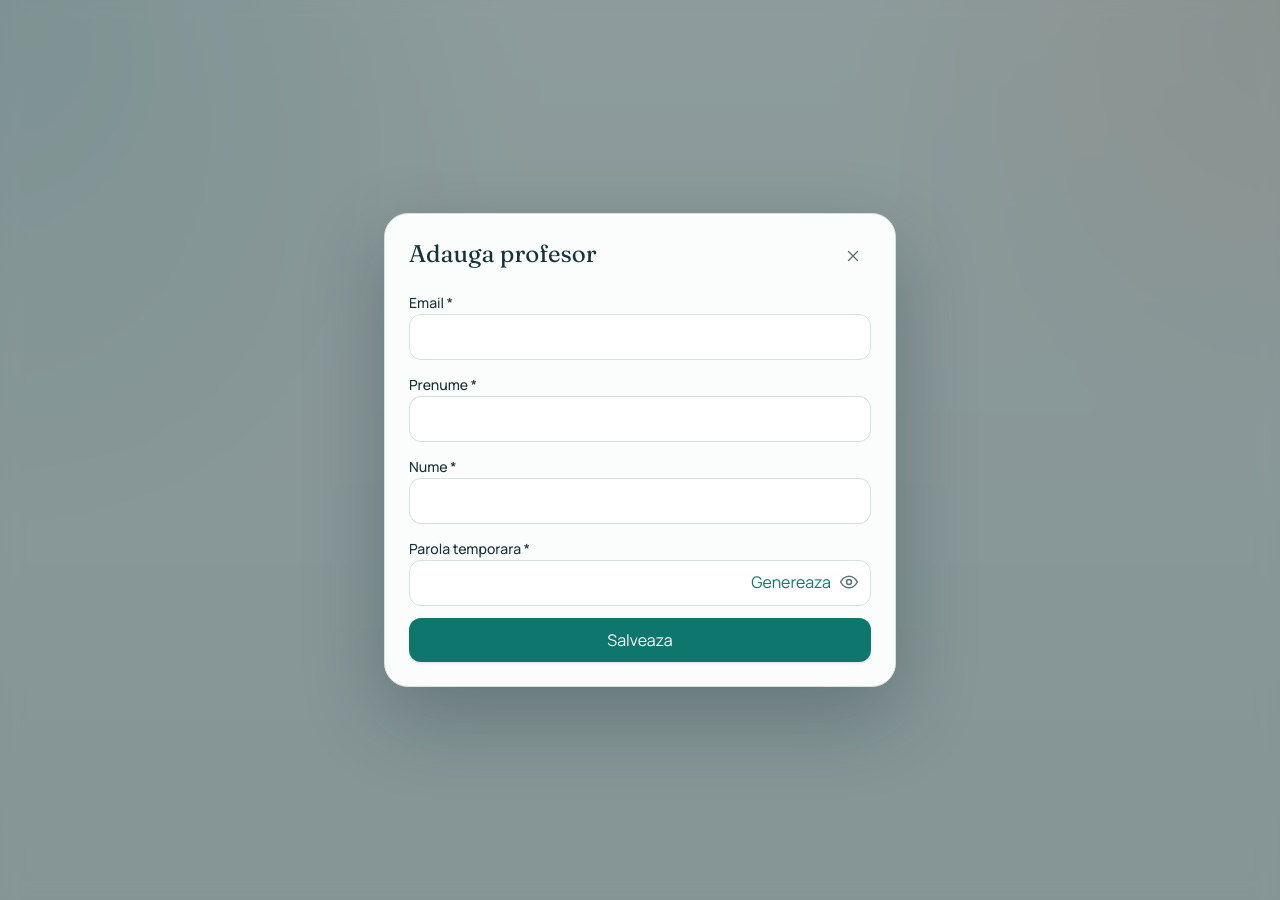
Test case: TeacherFormModal › does not send a weak temporary password
Type "prof@scoala.ro" into the field labelled "Email *" at (640, 337), box [409,314,871,360]
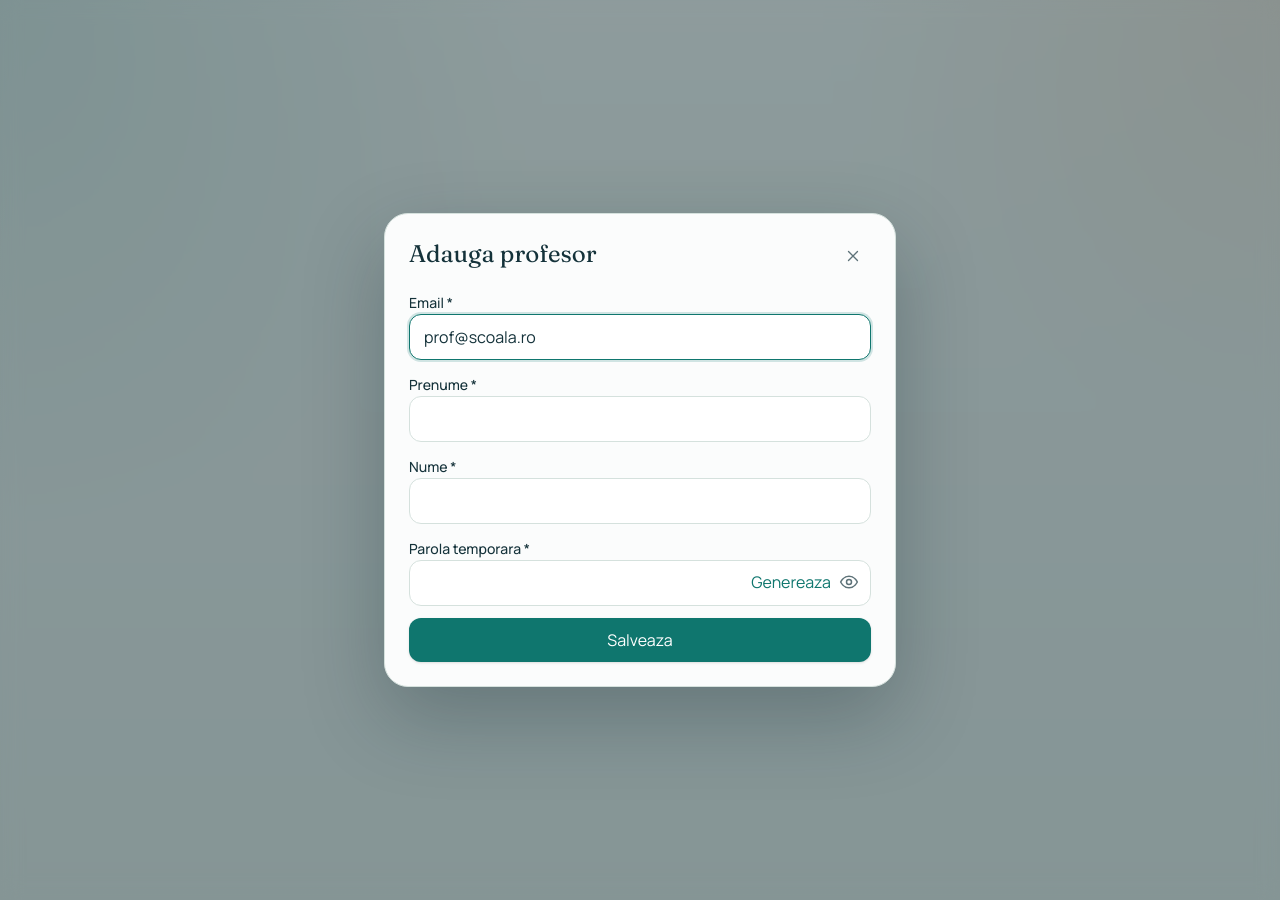
Type "Ion" into the field labelled "Prenume *" at (640, 419), box [409,396,871,442]
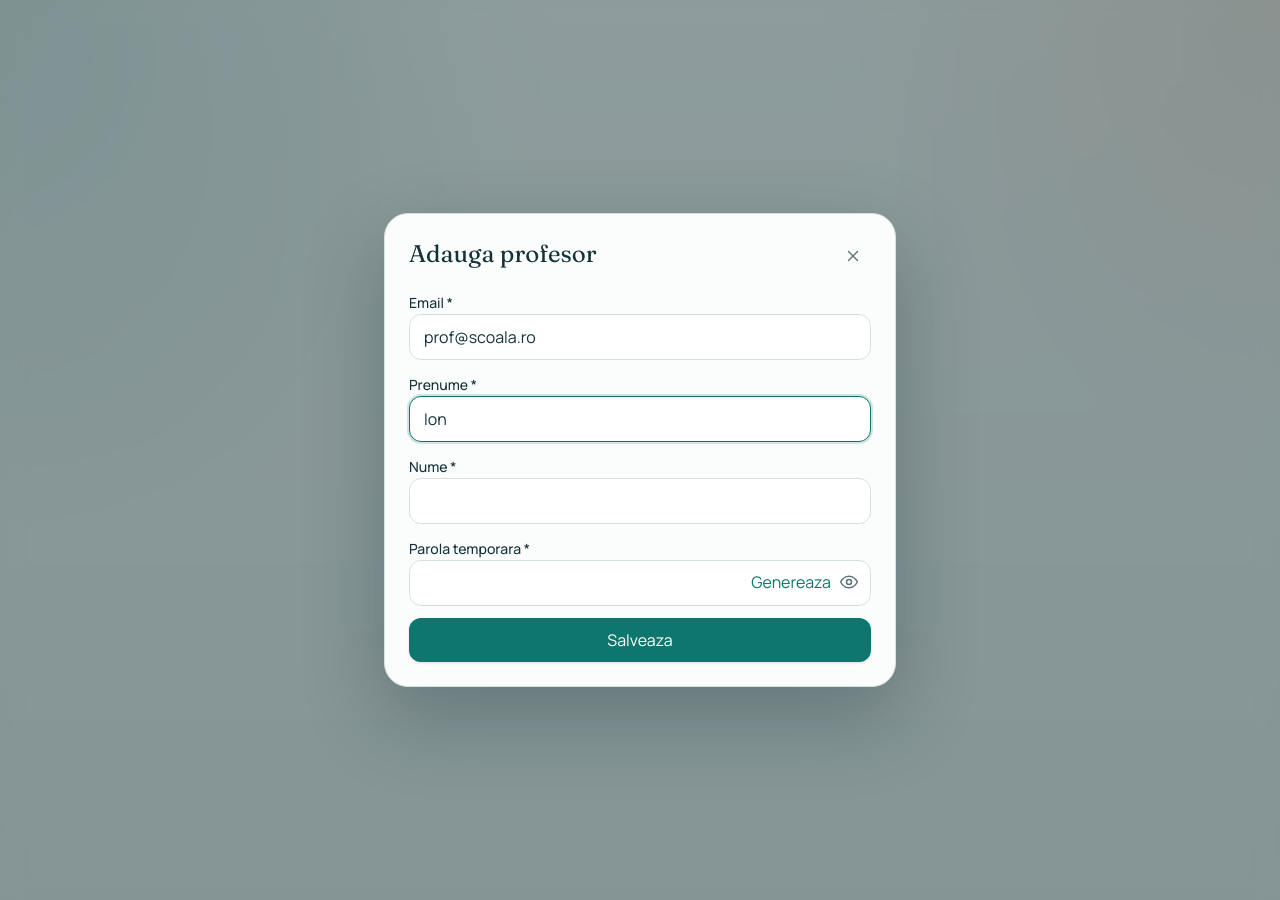
Type "Pop" into the field labelled "Nume *" at (640, 501), box [409,478,871,524]
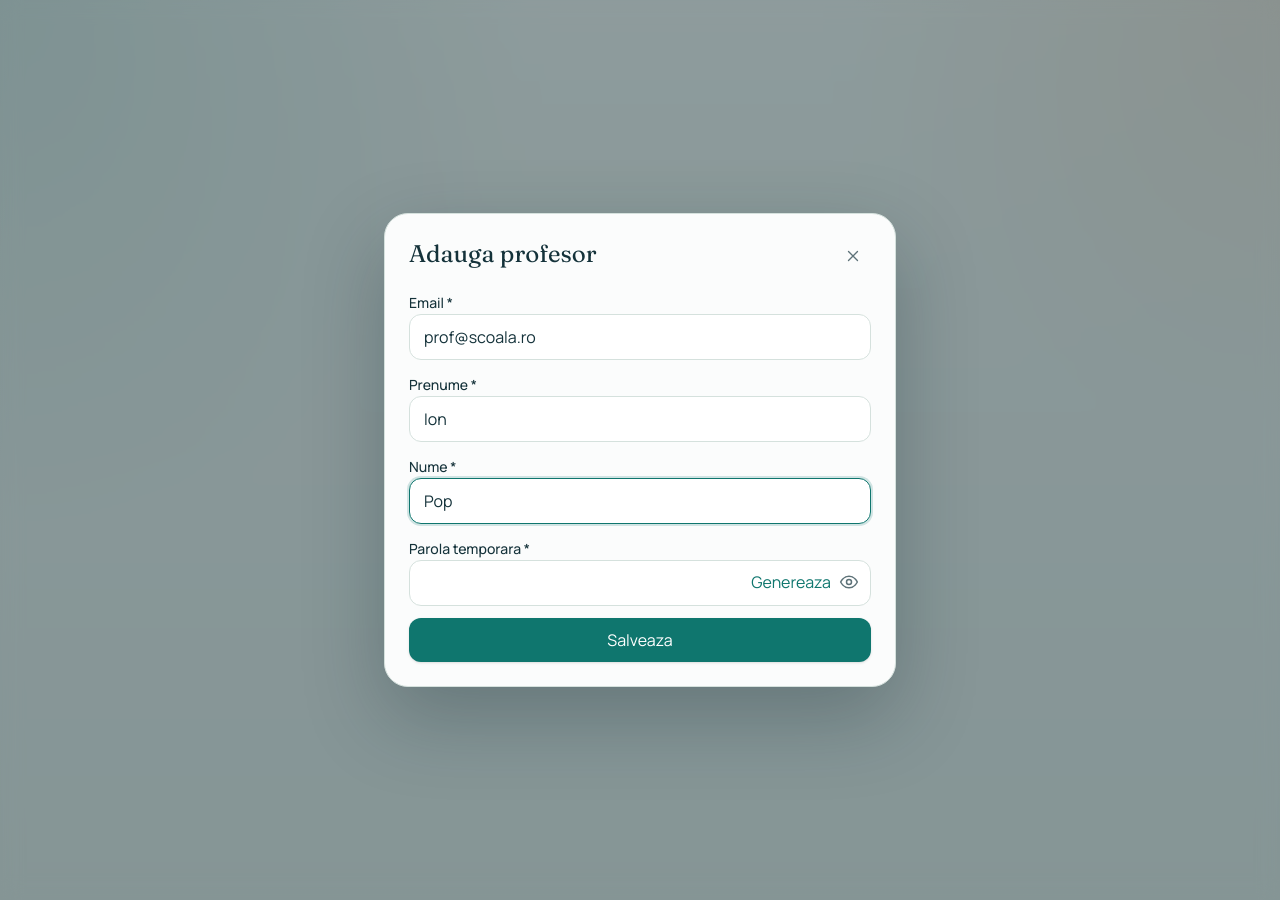
Type "slaba" into the password field labelled "Parola temporara *" at (640, 583), box [409,560,871,606]
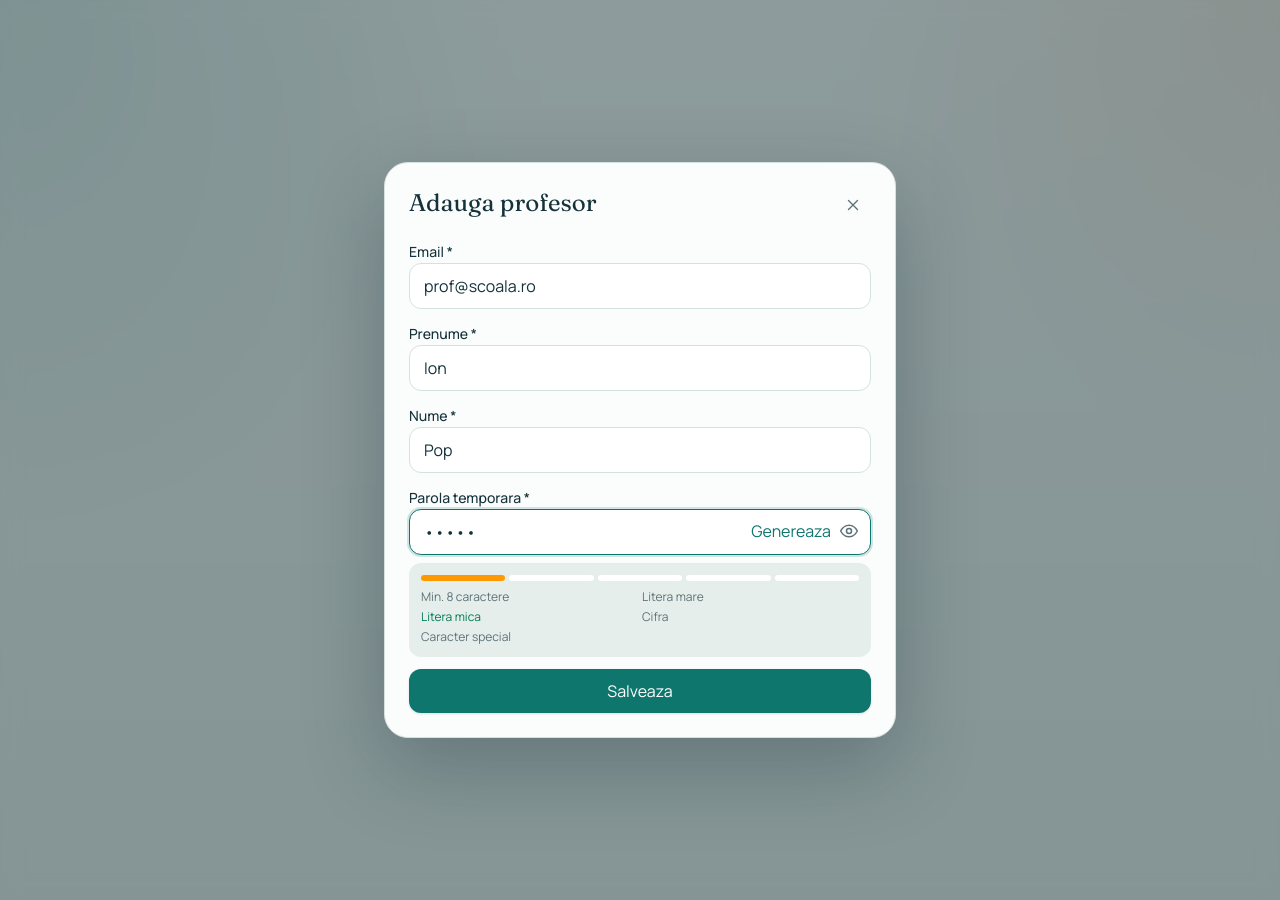
Click the button "Salveaza" at (640, 691), box [409,669,871,713]
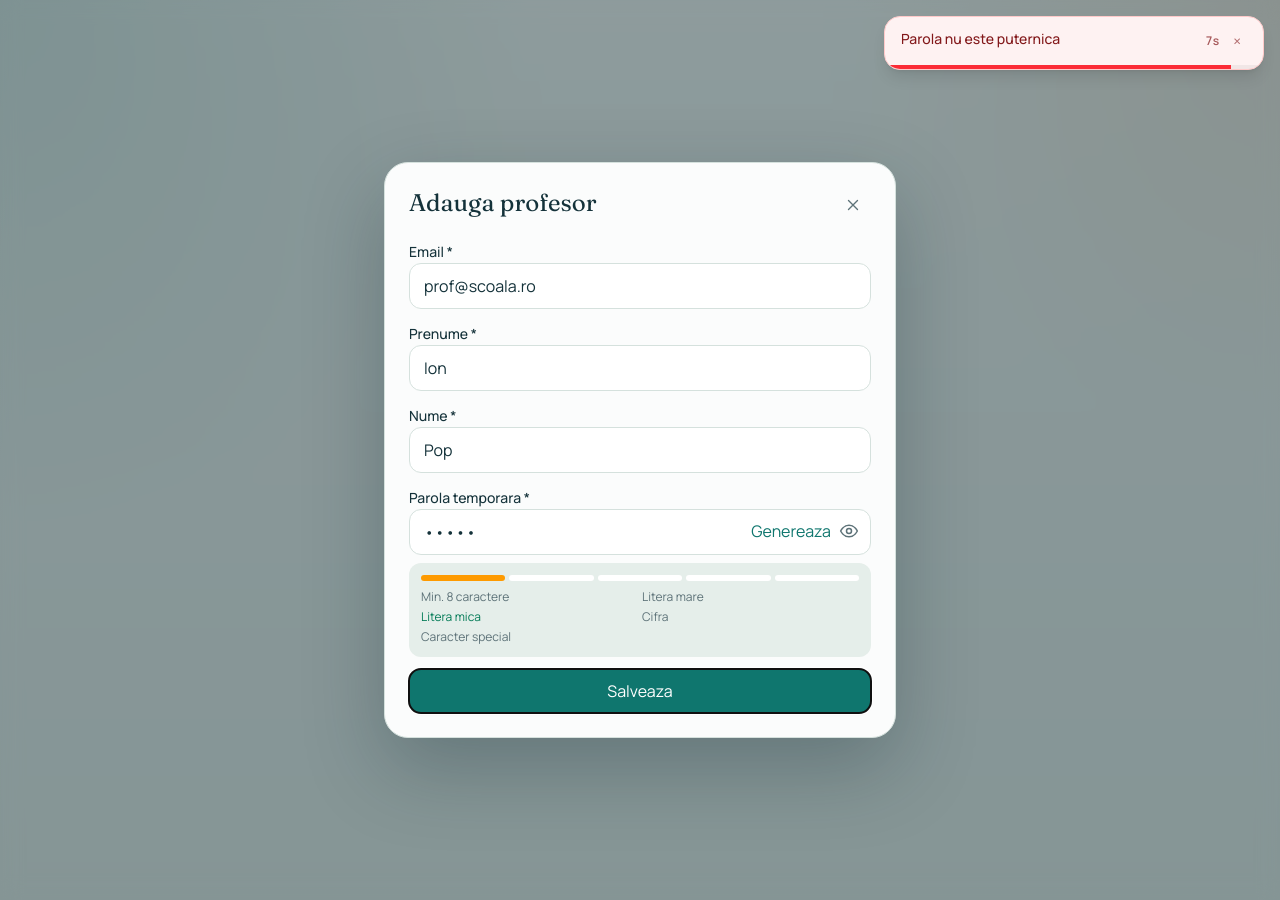
Result: the text "Parola nu este puternica" is shown at [901,29,1060,48]
